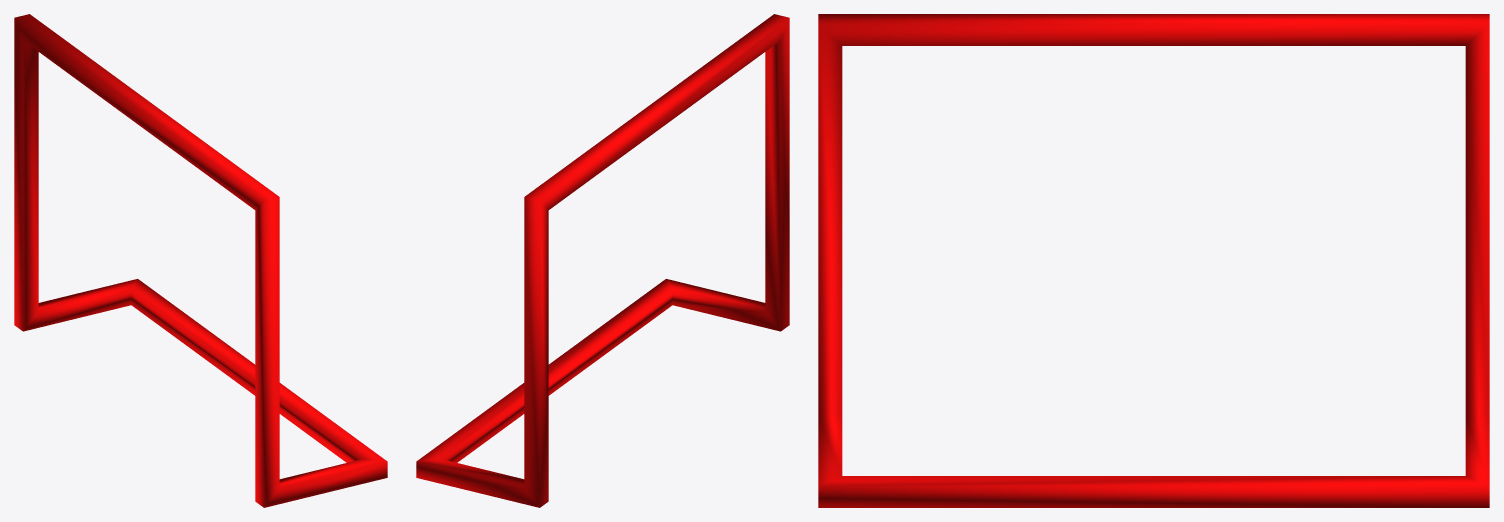
File: Goalsopponent.dae
The picture shows the model from 3 angles, left to right: view 1: azimuth 30°, elevation 25°; view 2: azimuth 150°, elevation 25°; view 3: azimuth 270°, elevation 25°; orthographic projection. The views are drawn at different scales.
Parts seen in each view (by area): view 1: visual_0_field_1_3; view 2: visual_0_field_1_3; view 3: visual_0_field_1_3.
Part boxes in pixels (x1,y1,x2,y2): visual_0_field_1_3: (14, 14, 387, 507); visual_0_field_1_3: (416, 14, 789, 507); visual_0_field_1_3: (818, 14, 1489, 507).
Size of the model in its own units: 0.8 by 2.8 by 1.9.
